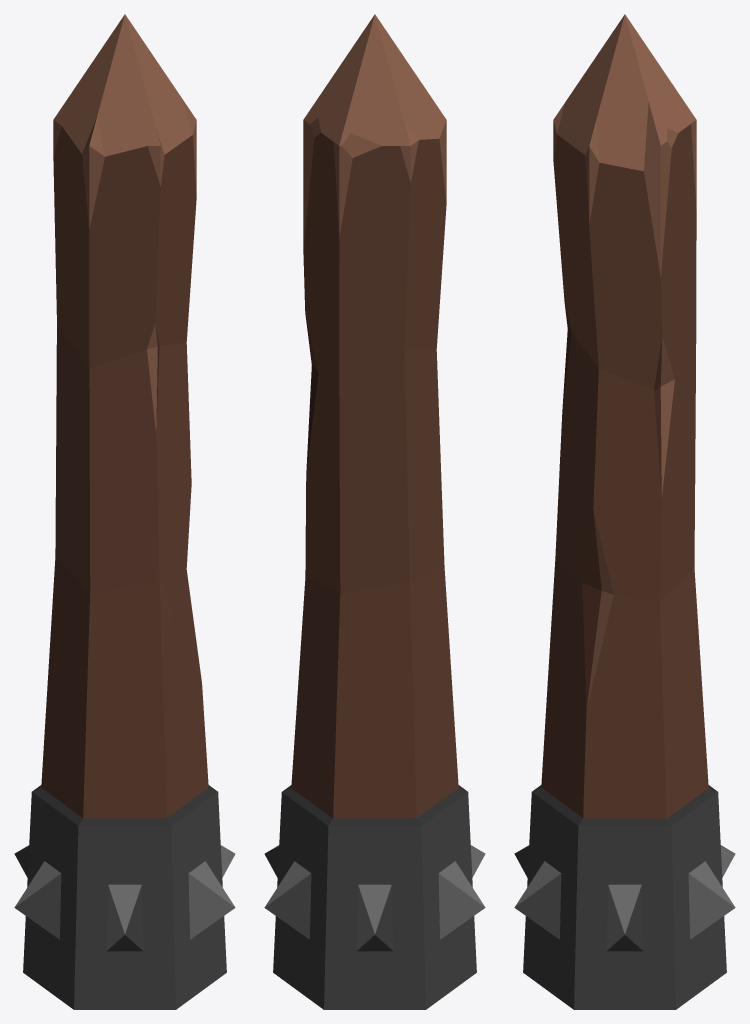
The model's file is WoodSpike_01.glb.
The picture shows the model from 3 angles, left to right: view 1: azimuth 30°, elevation 25°; view 2: azimuth 150°, elevation 25°; view 3: azimuth 270°, elevation 25°; orthographic projection.
Parts seen in each view (by area): view 1: WoodSpike_01; view 2: WoodSpike_01; view 3: WoodSpike_01.
Part boxes in pixels (x1=…): WoodSpike_01: x1=14, y1=14, x2=235, y2=1009; WoodSpike_01: x1=264, y1=14, x2=485, y2=1009; WoodSpike_01: x1=514, y1=14, x2=735, y2=1009.
Size of what is drawn, in the model's own units: 0.343 by 1.42 by 0.297.
Materials: 1 (1 with a texture image).
